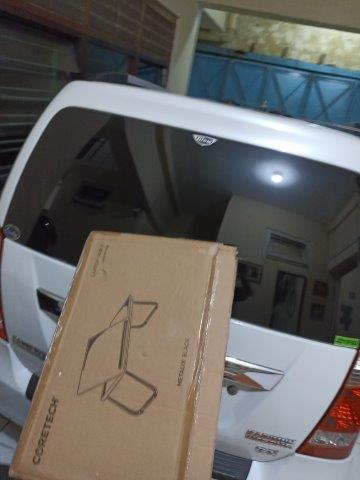kardus: (7, 235, 235, 480)
